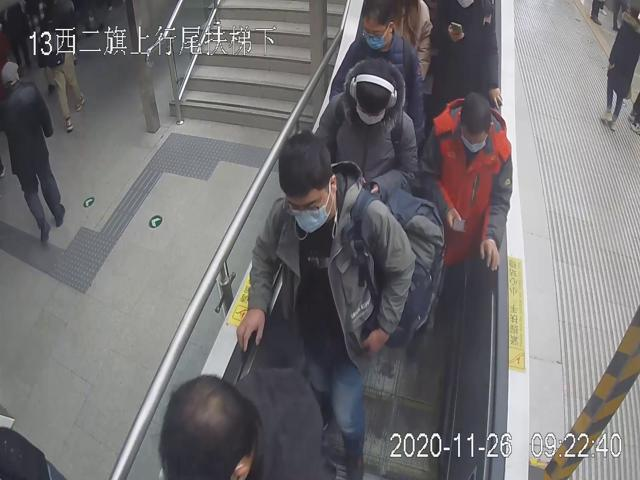person: (235, 131, 416, 480), (421, 87, 515, 277), (309, 56, 420, 206), (327, 0, 426, 129)
